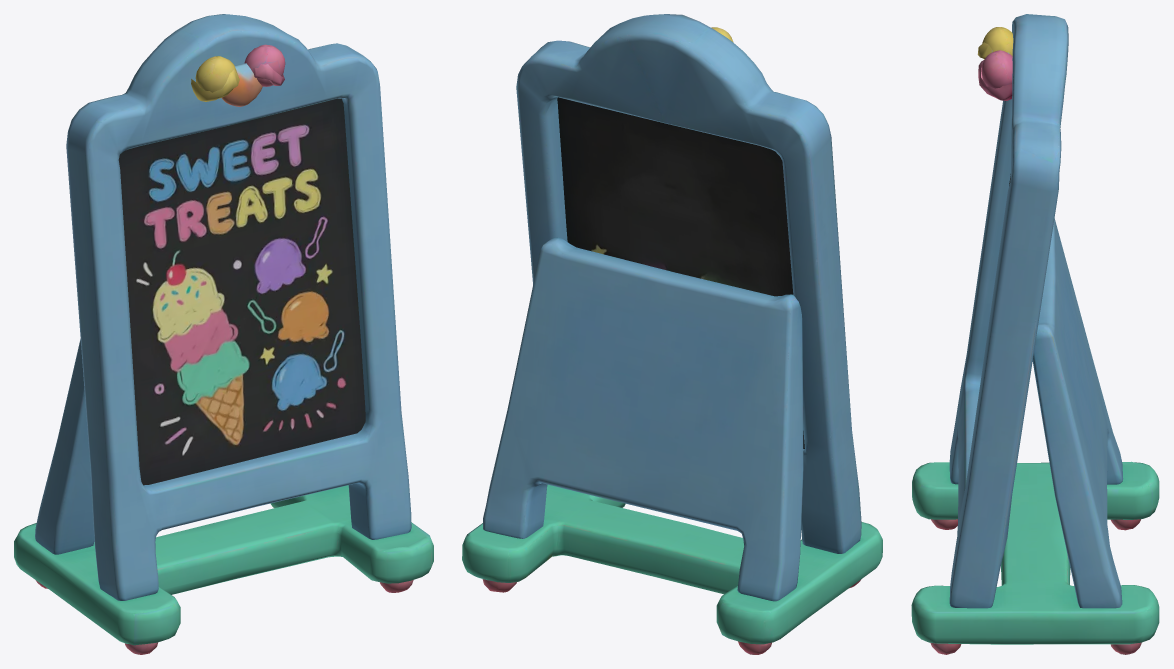
The model's file is icecream-menu-board.glb.
3 views of the same model, side by side, from view 1: azimuth 30°, elevation 25°; view 2: azimuth 150°, elevation 25°; view 3: azimuth 270°, elevation 25° (orthographic).
Visible parts, largest first — view 1: geometry_0; view 2: geometry_0; view 3: geometry_0.
Boxes of the visible parts, box(x1,y1,x2,y2) form: geometry_0: box(14, 14, 433, 654); geometry_0: box(462, 14, 882, 654); geometry_0: box(911, 14, 1159, 654).
Bounding box in the file's own units: 0.5828 × 1 × 0.3982.
1 material, 1 textured.
